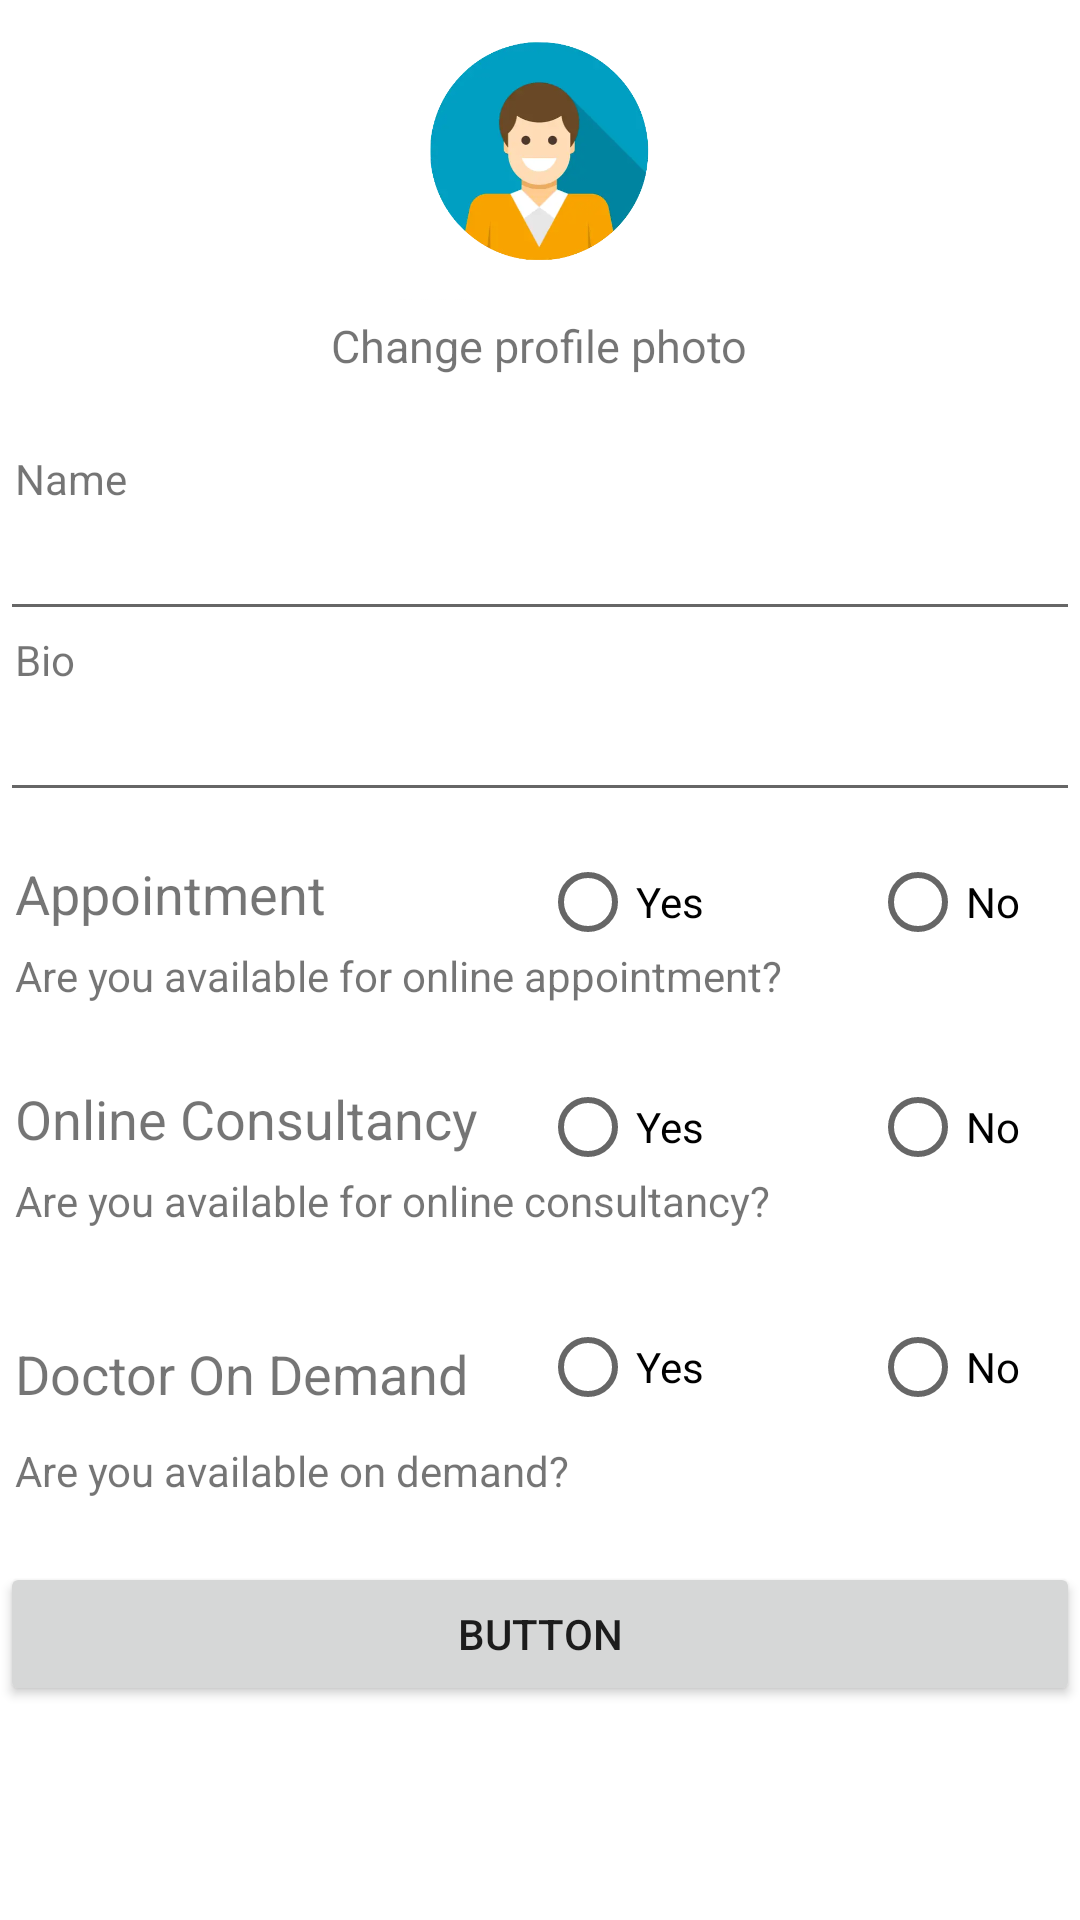

Icon bounding boxes for this 1080px×1920px phone screenshot, format (x1, y1, x2, y2):
user: (430, 42, 649, 260)
